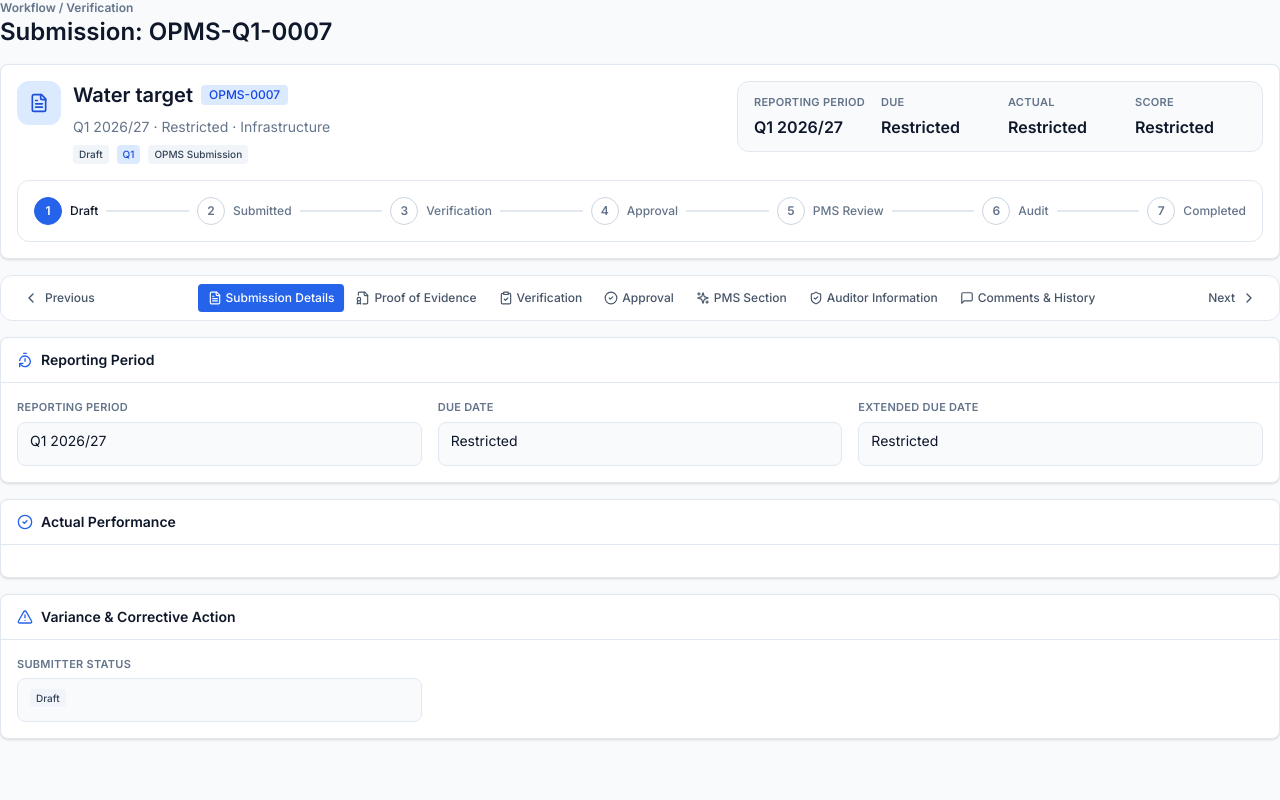
Test case: SubmissionWorkspace member security › requires member update grants in addition to POE actions before rendering governance inputs
Later steps or results of the test are not shown.
Click the tab "Proof of Evidence": (416, 298) [346,284,487,312]
(page scrolled)
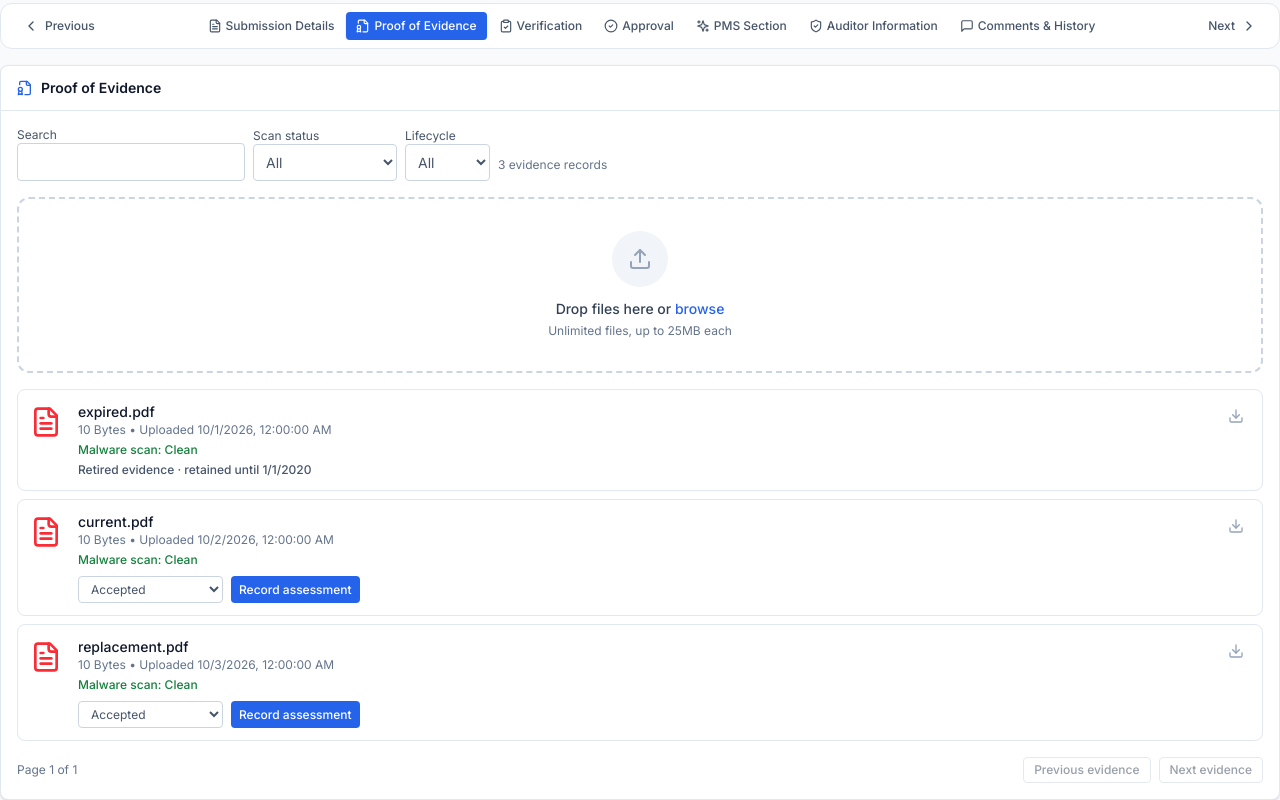
expect the text "expired.pdf" is shown: met, box [78,403,155,420]
expect the dropdown named "Assessment outcome for current.pdf" is shown: met, box [78,576,223,603]
